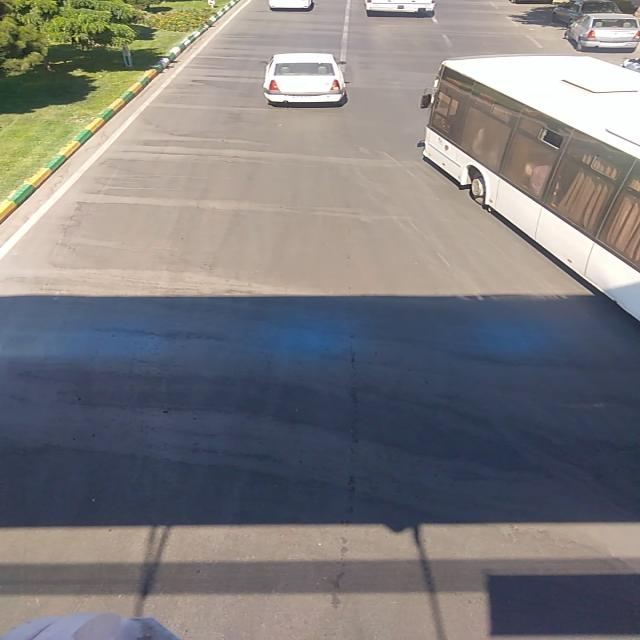bus: (422, 55, 638, 321)
car: (258, 53, 356, 105), (564, 12, 638, 52)
